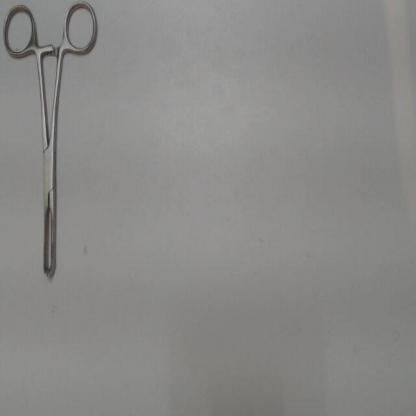Allis Tissue Forceps: (1, 0, 105, 295)
